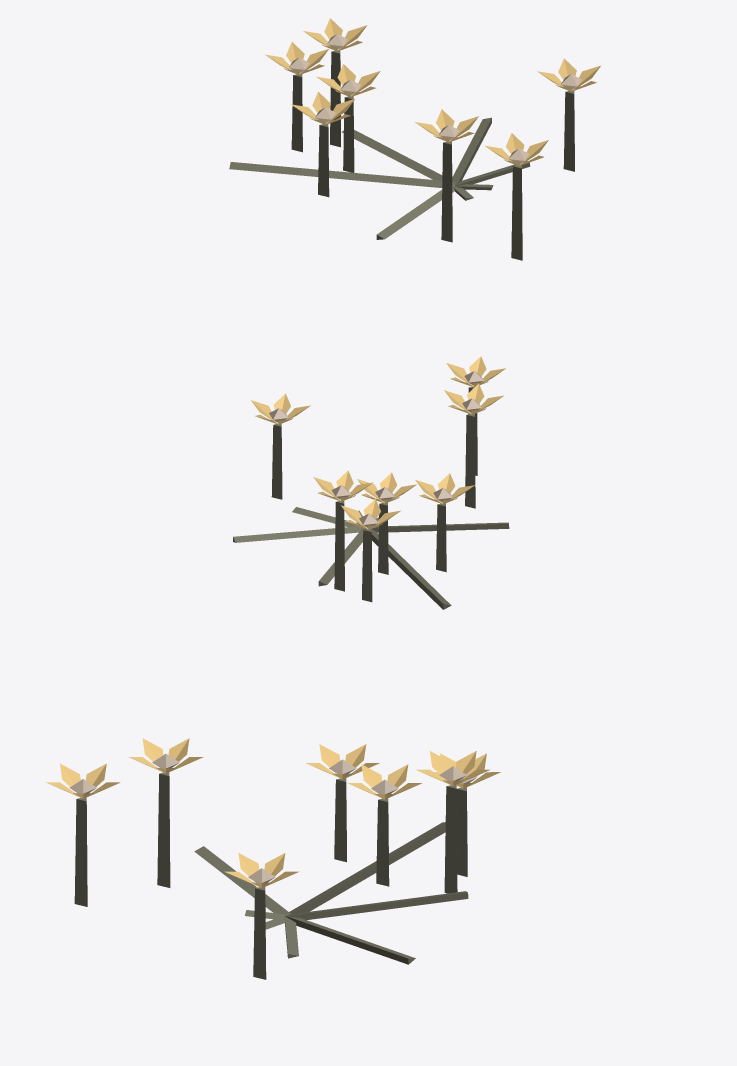
File: shui.pingpeng@flowering__winter.glb
The picture shows the model from 3 angles, top to bottom: view 1: azimuth 30°, elevation 25°; view 2: azimuth 150°, elevation 25°; view 3: azimuth 270°, elevation 25°; orthographic projection. The views are drawn at different scales.
Parts seen in each view (by area): view 1: shui.pingpeng@flowering__winter; view 2: shui.pingpeng@flowering__winter; view 3: shui.pingpeng@flowering__winter.
Boxes of the visible parts, left/top/right/bottom form: shui.pingpeng@flowering__winter: left=229, top=18, right=600, bottom=260; shui.pingpeng@flowering__winter: left=233, top=356, right=509, bottom=609; shui.pingpeng@flowering__winter: left=46, top=738, right=500, bottom=979.
Bounding box in the file's own units: 1.28 × 0.2458 × 1.15.
